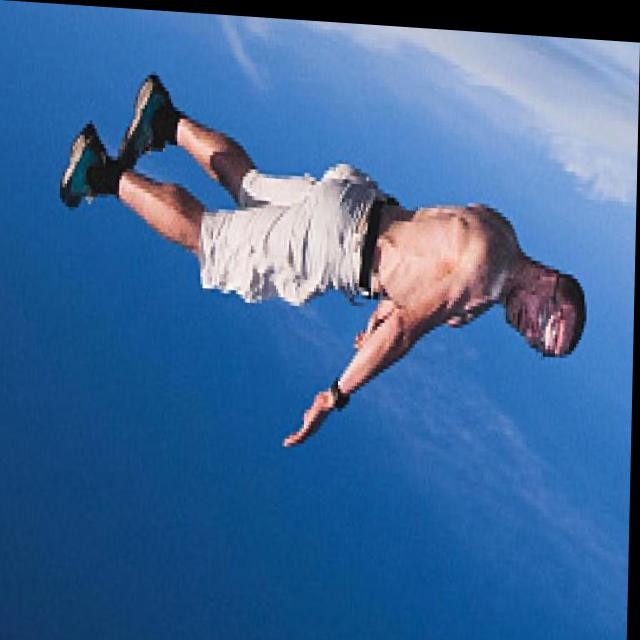fall: (51, 70, 597, 457)
